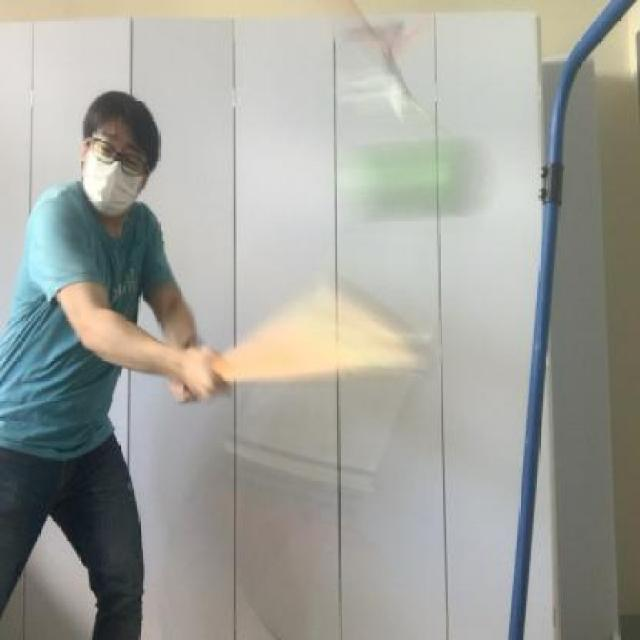baseball: (343, 132, 503, 220)
